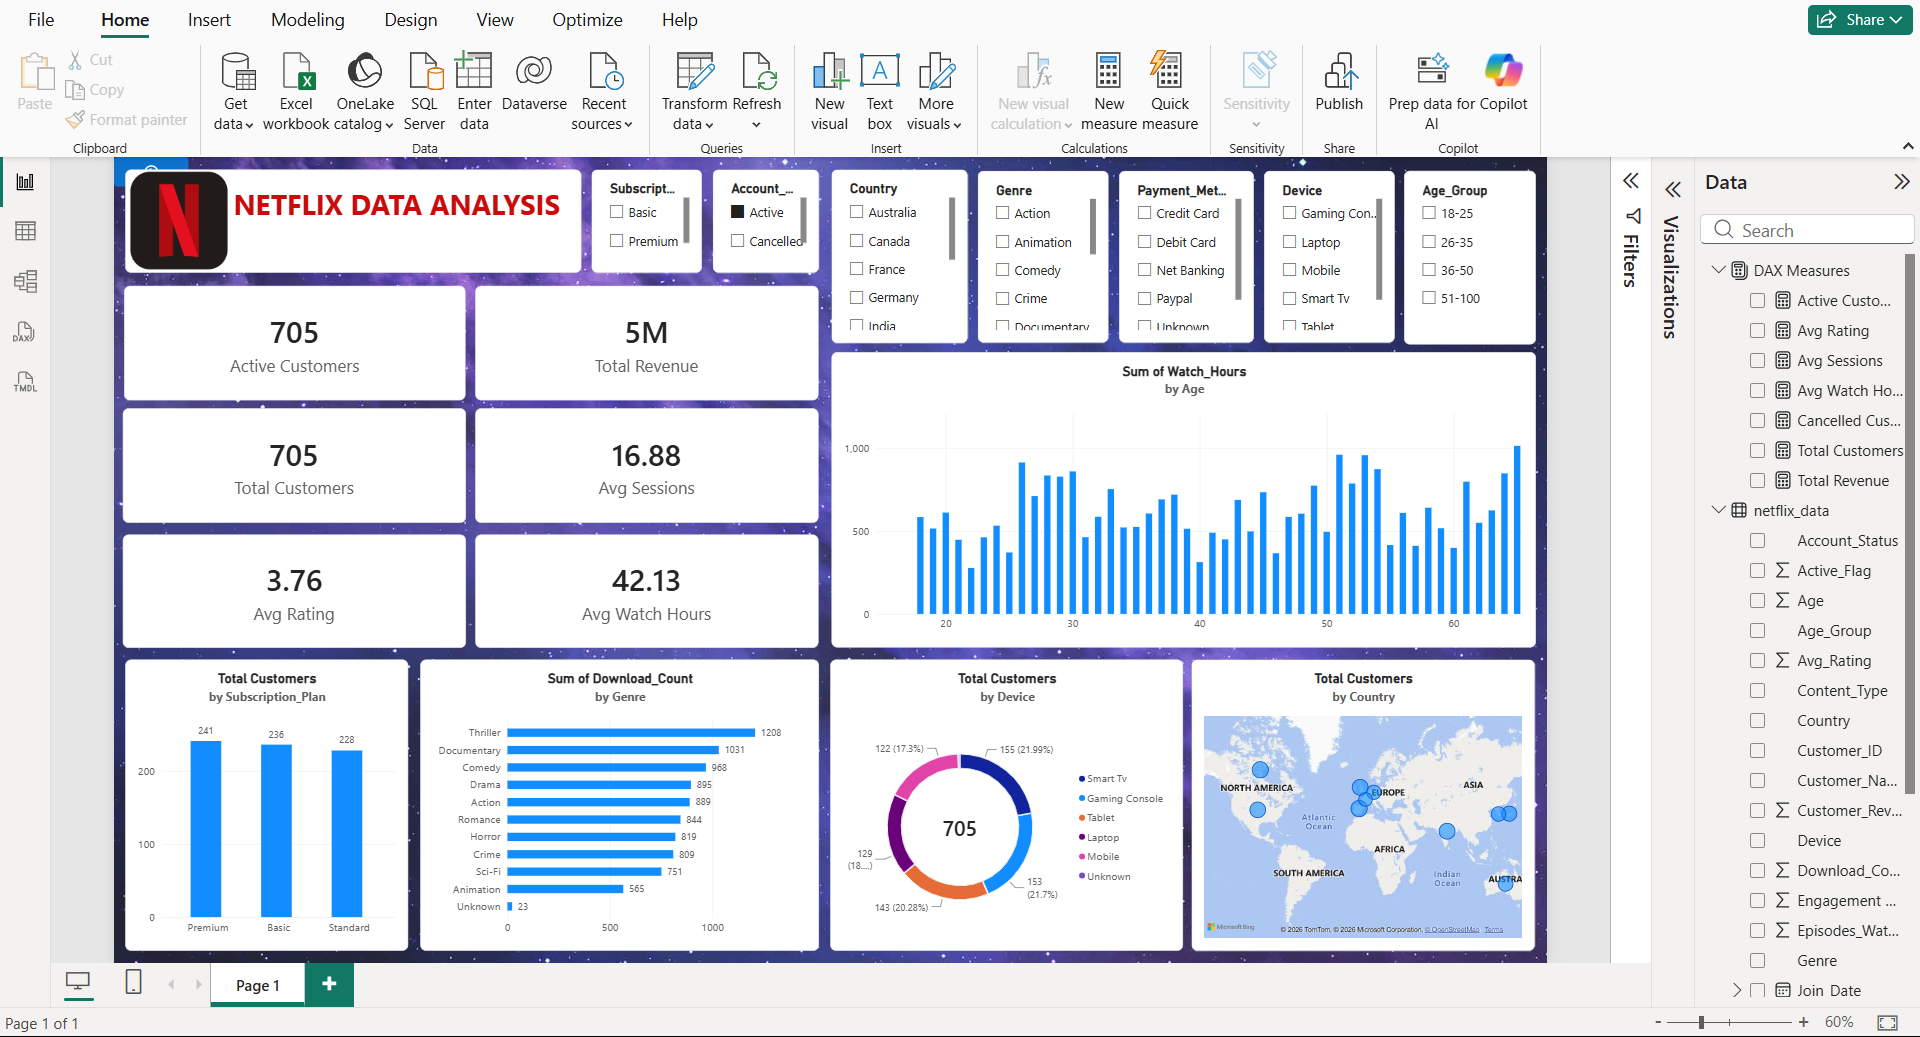

The dashboard page shown, as its layout file describes it:
{"tool":"powerbi","page":{"name":"Page 1","canvas":[1920,1080],"ordinal":0},"visuals":[{"type":"card","fields":{"Values":["DAX Measures.Total Revenue"]},"box":[484.6,173.1,459.6,153.8],"z":0},{"type":"card","fields":{"Values":["DAX Measures.Total Customers"]},"box":[11.5,336.5,459.6,153.8],"z":1000},{"type":"card","fields":{"Values":["DAX Measures.Active Customers"]},"box":[13.5,173.1,457.7,153.8],"z":2000},{"type":"actionButton","box":[0,0,100,40],"z":3000},{"type":"card","fields":{"Values":["DAX Measures.Avg Rating"]},"box":[11.5,505.8,459.6,151.9],"z":4000},{"type":"card","fields":{"Values":["DAX Measures.Avg Watch Hours"]},"box":[484.6,505.8,459.6,151.9],"z":5000},{"type":"clusteredColumnChart","fields":{"Category":["netflix_data.Age"],"Y":["Sum(netflix_data.Watch_Hours)"]},"box":[961.5,261.5,944.2,396.2],"z":6000},{"type":"slicer","fields":{"Values":["netflix_data.Country"]},"box":[961.5,17.3,182.7,232.7],"z":7000},{"type":"slicer","fields":{"Values":["netflix_data.Device"]},"box":[626.9,801.9,242.1,233.1],"z":8000},{"type":"slicer","fields":{"Values":["netflix_data.Subscription_Plan"]},"box":[640.4,17.3,148.1,138.5],"z":9000},{"type":"slicer","fields":{"Values":["netflix_data.Genre"]},"box":[1157.7,19.2,175,230.8],"z":10000},{"type":"slicer","fields":{"Values":["netflix_data.Account_Status"]},"box":[801.9,17.3,142.3,138.5],"z":11000},{"type":"columnChart","fields":{"Category":["netflix_data.Subscription_Plan"],"Y":["DAX Measures.Total Customers"]},"box":[15.4,673.1,378.8,390.4],"z":12000},{"type":"map","fields":{"Category":["netflix_data.Country"],"Size":["DAX Measures.Total Customers"]},"box":[1444.2,673.1,459.6,390.4],"z":13000},{"type":"barChart","fields":{"Category":["netflix_data.Genre"],"Y":["Sum(netflix_data.Download_Count)"]},"box":[409.6,673.1,534.6,390.4],"z":14000},{"type":"donutChart","fields":{"Category":["netflix_data.Device"],"Y":["DAX Measures.Total Customers"]},"box":[959.6,673.1,473.1,390.4],"z":15000},{"type":"slicer","fields":{"Values":["netflix_data.Age_Group"]},"box":[1728.8,19.2,176.9,232.7],"z":16000},{"type":"textbox","box":[15.4,17.3,611.5,138.5],"z":17000},{"type":"card","fields":{"Values":["DAX Measures.Avg Sessions"]},"box":[484.6,336.5,459.6,153.8],"z":18000},{"type":"slicer","fields":{"Values":["netflix_data.Payment_Method"]},"box":[1346.2,19.2,180.8,230.8],"z":19000},{"type":"image","box":[15.4,17.3,144.2,136.5],"z":20000},{"type":"slicer","fields":{"Values":["netflix_data.Device"]},"box":[1540.4,19.2,175,230.8],"z":21000}]}

Visuals, with their boxes on the page's 1920x1080 design canvas (x1, y1, x2, y2). These are canvas units, not pixel positions in the 1920x1037 screenshot, which may show the page scaled, cropped or inside an application window:
card - DAX Measures.Total Revenue: [left=485, top=173, right=944, bottom=327]
card - DAX Measures.Total Customers: [left=12, top=336, right=471, bottom=490]
card - DAX Measures.Active Customers: [left=14, top=173, right=471, bottom=327]
actionButton: [left=0, top=0, right=100, bottom=40]
card - DAX Measures.Avg Rating: [left=12, top=506, right=471, bottom=658]
card - DAX Measures.Avg Watch Hours: [left=485, top=506, right=944, bottom=658]
clusteredColumnChart - netflix_data.Age x Sum(netflix_data.Watch_Hours): [left=962, top=262, right=1906, bottom=658]
slicer - netflix_data.Country: [left=962, top=17, right=1144, bottom=250]
slicer - netflix_data.Device: [left=627, top=802, right=869, bottom=1035]
slicer - netflix_data.Subscription_Plan: [left=640, top=17, right=788, bottom=156]
slicer - netflix_data.Genre: [left=1158, top=19, right=1333, bottom=250]
slicer - netflix_data.Account_Status: [left=802, top=17, right=944, bottom=156]
columnChart - netflix_data.Subscription_Plan x DAX Measures.Total Customers: [left=15, top=673, right=394, bottom=1064]
map - netflix_data.Country x DAX Measures.Total Customers: [left=1444, top=673, right=1904, bottom=1064]
barChart - netflix_data.Genre x Sum(netflix_data.Download_Count): [left=410, top=673, right=944, bottom=1064]
donutChart - netflix_data.Device x DAX Measures.Total Customers: [left=960, top=673, right=1433, bottom=1064]
slicer - netflix_data.Age_Group: [left=1729, top=19, right=1906, bottom=252]
textbox: [left=15, top=17, right=627, bottom=156]
card - DAX Measures.Avg Sessions: [left=485, top=336, right=944, bottom=490]
slicer - netflix_data.Payment_Method: [left=1346, top=19, right=1527, bottom=250]
image: [left=15, top=17, right=160, bottom=154]
slicer - netflix_data.Device: [left=1540, top=19, right=1715, bottom=250]
